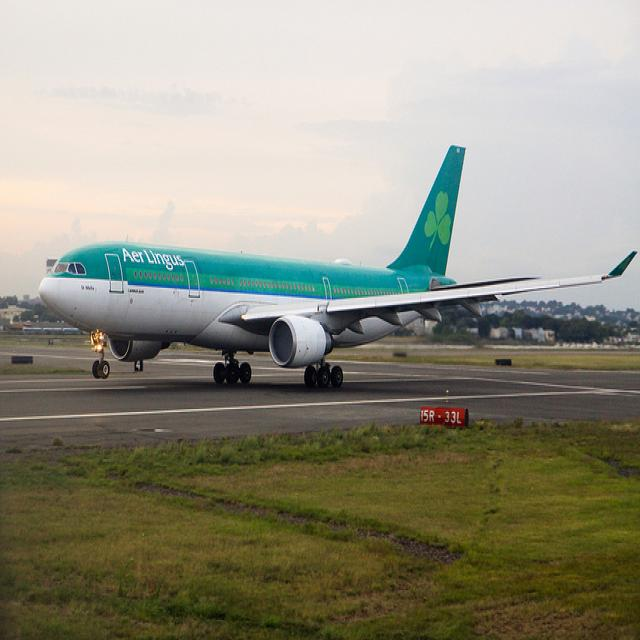airplane: (36, 142, 639, 392)
